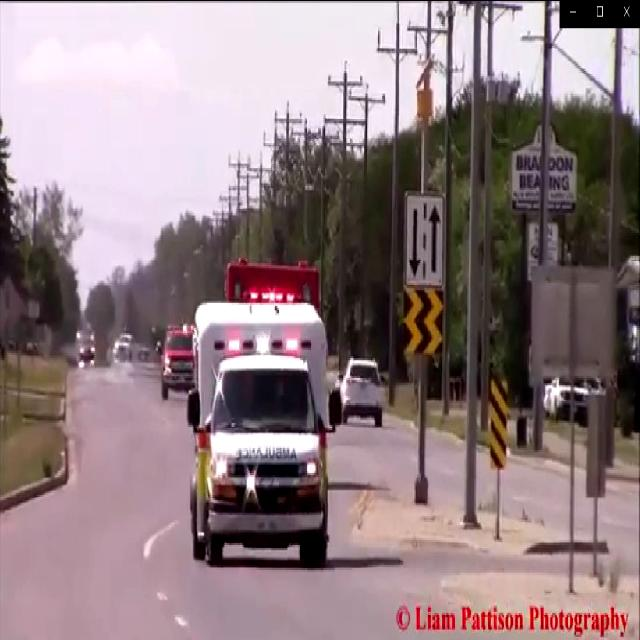emergency: (183, 298, 334, 578), (217, 253, 331, 450), (154, 320, 198, 402)
